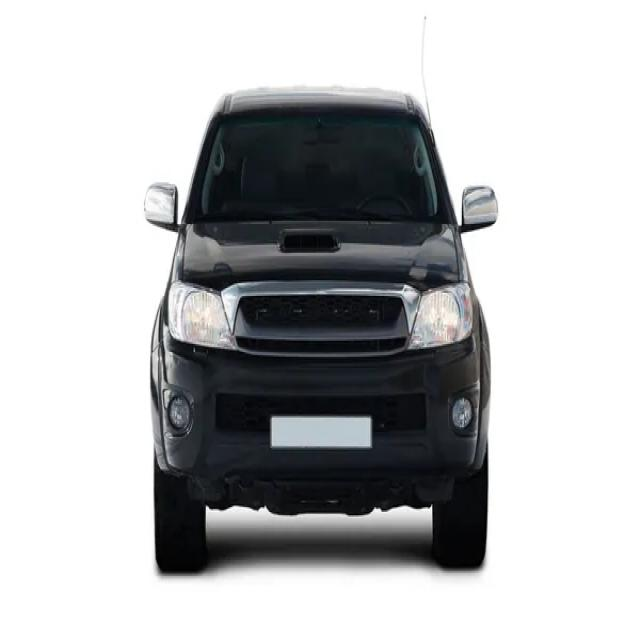yolov7-seg-car: (143, 13, 497, 571)
